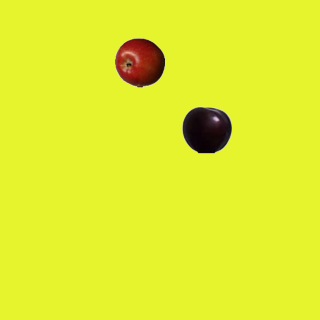Apple Braeburn: (114, 37, 164, 87)
Cherry Wax Black: (181, 104, 231, 154)
